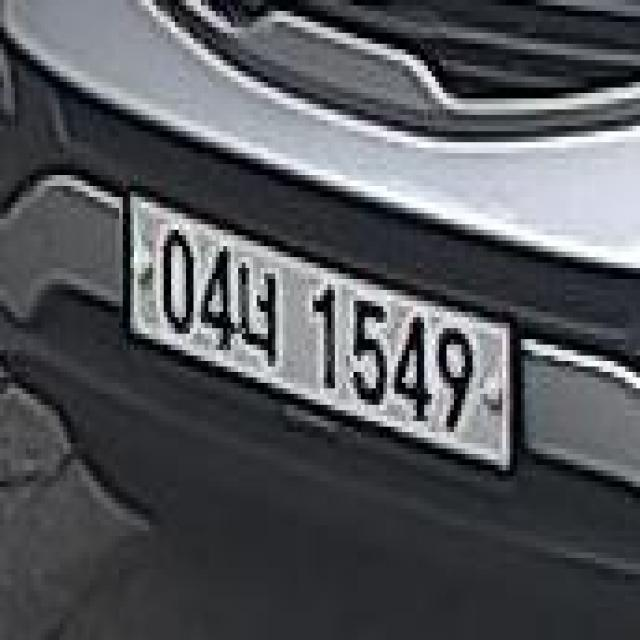illegal_plate: (119, 185, 522, 488)
